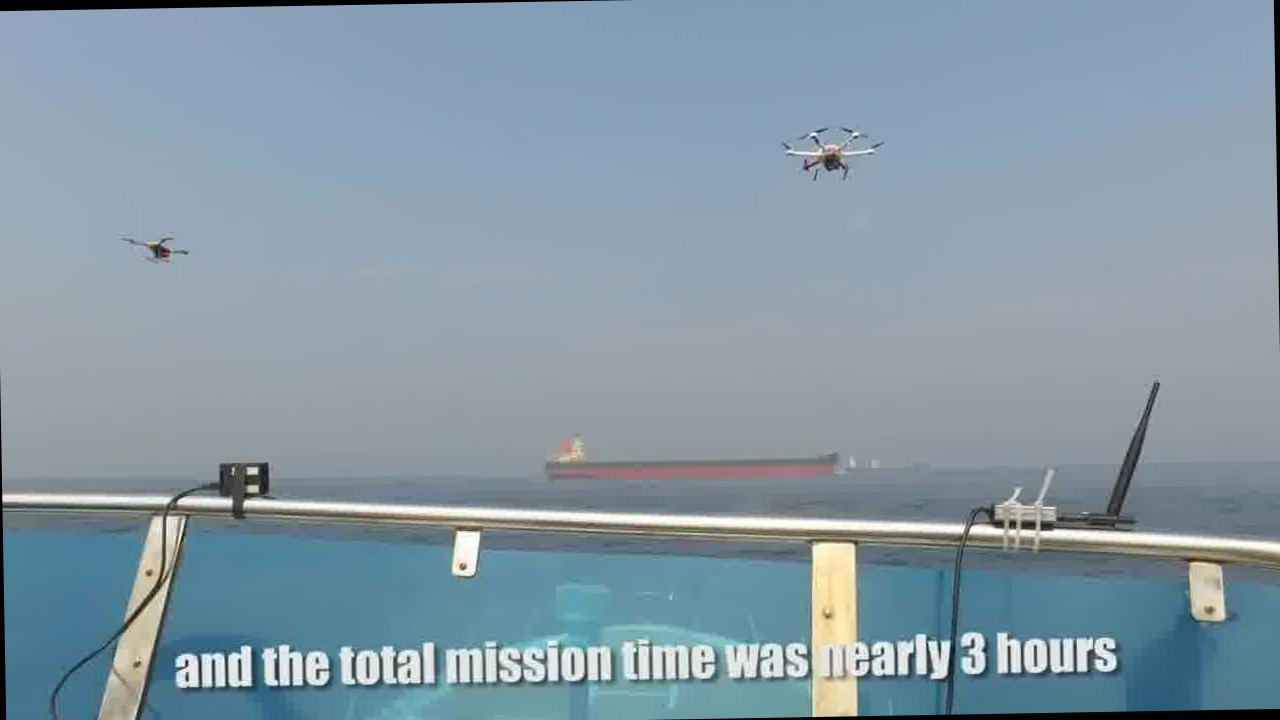drone: (772, 118, 885, 182), (118, 224, 192, 270)
